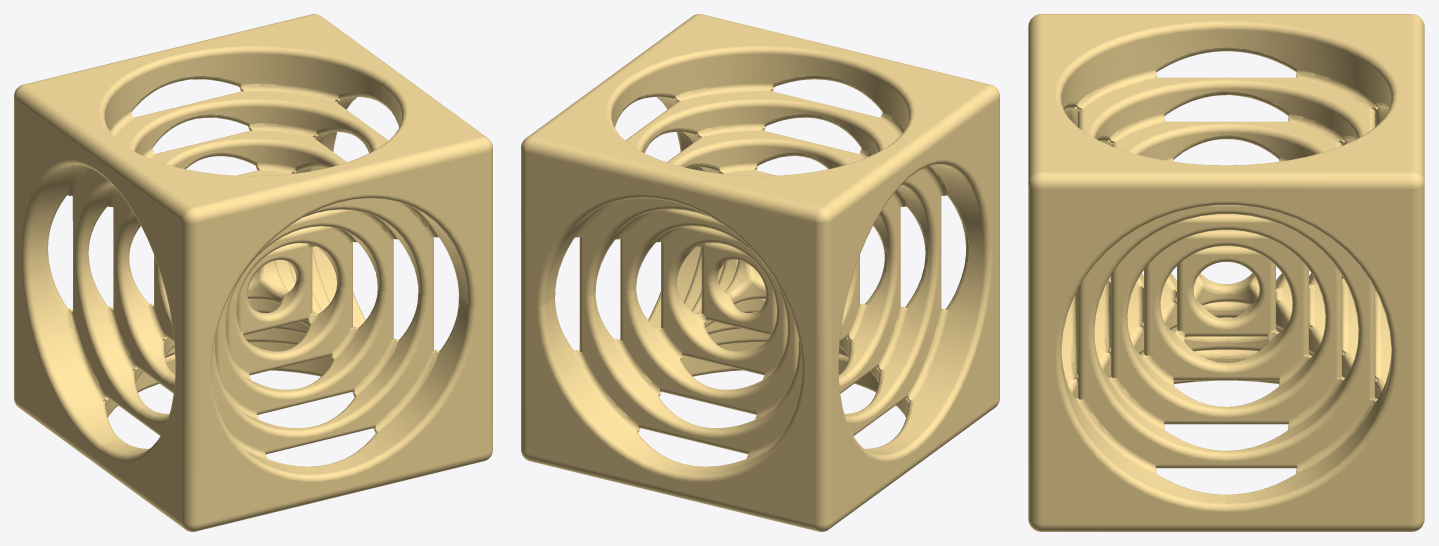
The model's file is wuerfel_gold.glb.
The picture shows the model from 3 angles, left to right: view 1: azimuth 30°, elevation 25°; view 2: azimuth 150°, elevation 25°; view 3: azimuth 270°, elevation 25°; orthographic projection. The views are drawn at different scales.
Visible parts, largest first — view 1: Wuerfel; view 2: Wuerfel; view 3: Wuerfel.
Boxes of the visible parts, <box> form: Wuerfel: <box>14,14,492,531</box>; Wuerfel: <box>521,14,999,531</box>; Wuerfel: <box>1028,14,1424,531</box>.
Bounding box in the file's own units: 0.06 × 0.06 × 0.06.
